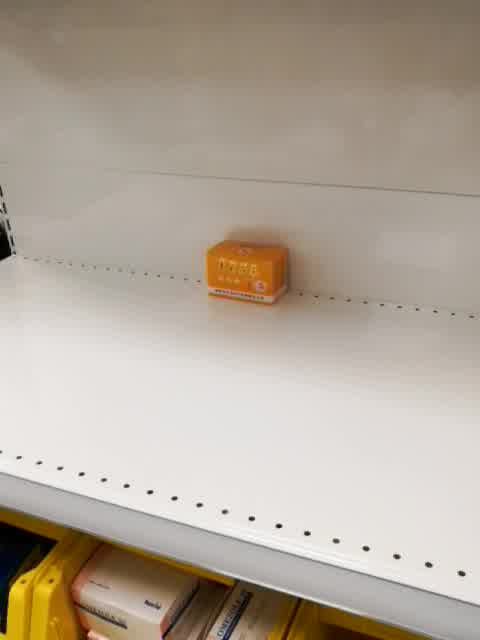jasminetea: (206, 239, 291, 307)
